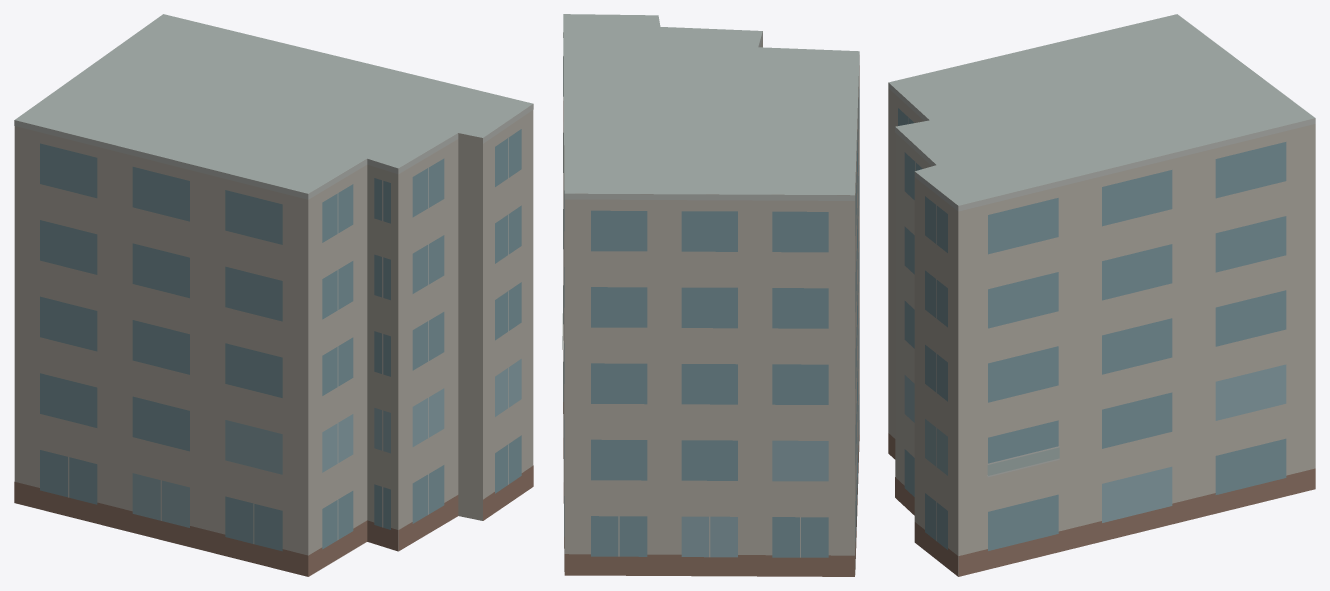
Rendered from survey-upis-32881014.glb.
The picture shows the model from 3 angles, left to right: view 1: azimuth 30°, elevation 25°; view 2: azimuth 150°, elevation 25°; view 3: azimuth 270°, elevation 25°; orthographic projection. The views are drawn at different scales.
Visible parts, largest first — view 1: survey-upis-32881014.tmp; view 2: survey-upis-32881014.tmp; view 3: survey-upis-32881014.tmp.
Boxes of the visible parts, x1,y1,x2,y2 form: survey-upis-32881014.tmp: (14,14,533,576); survey-upis-32881014.tmp: (562,14,859,576); survey-upis-32881014.tmp: (888,14,1315,576).
Size of the model in its own units: 17.64 by 15.9 by 16.6.
